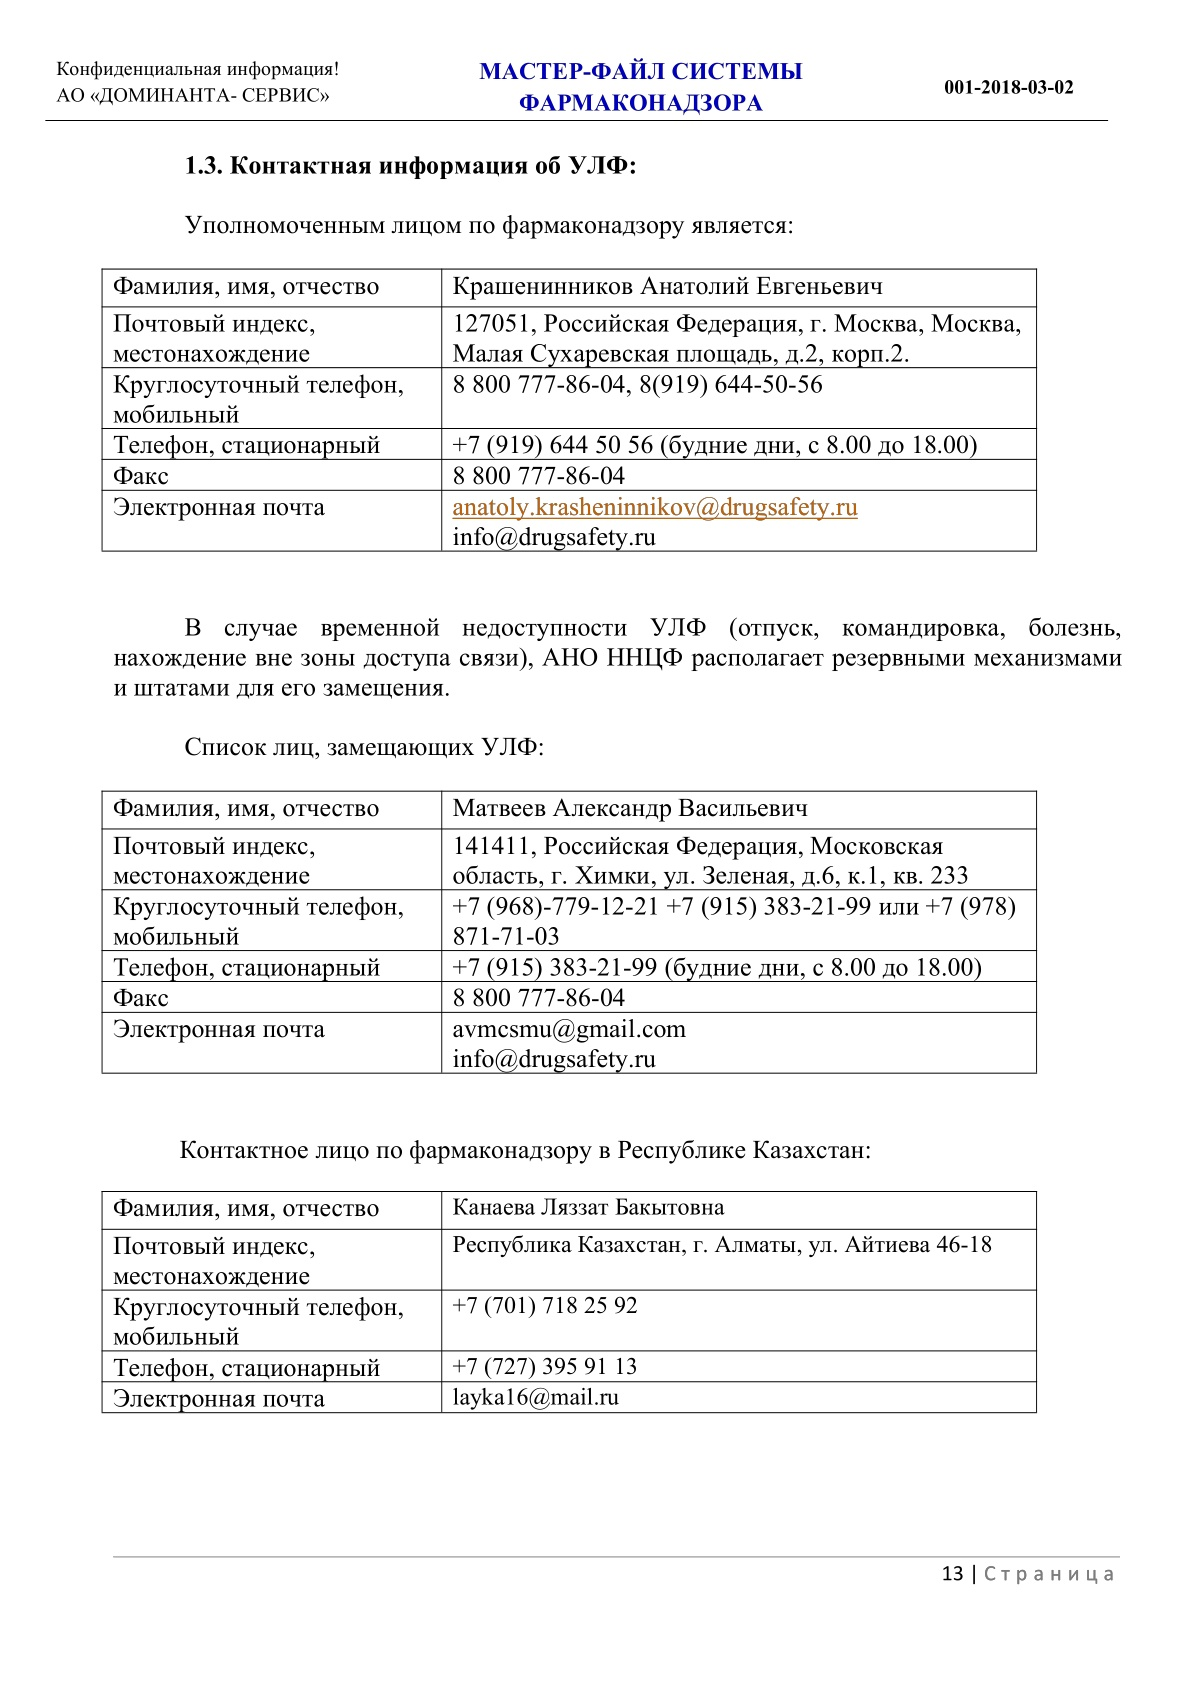full_lined: (101, 265, 1038, 554), (101, 789, 1038, 1075), (99, 1189, 1038, 1413)
